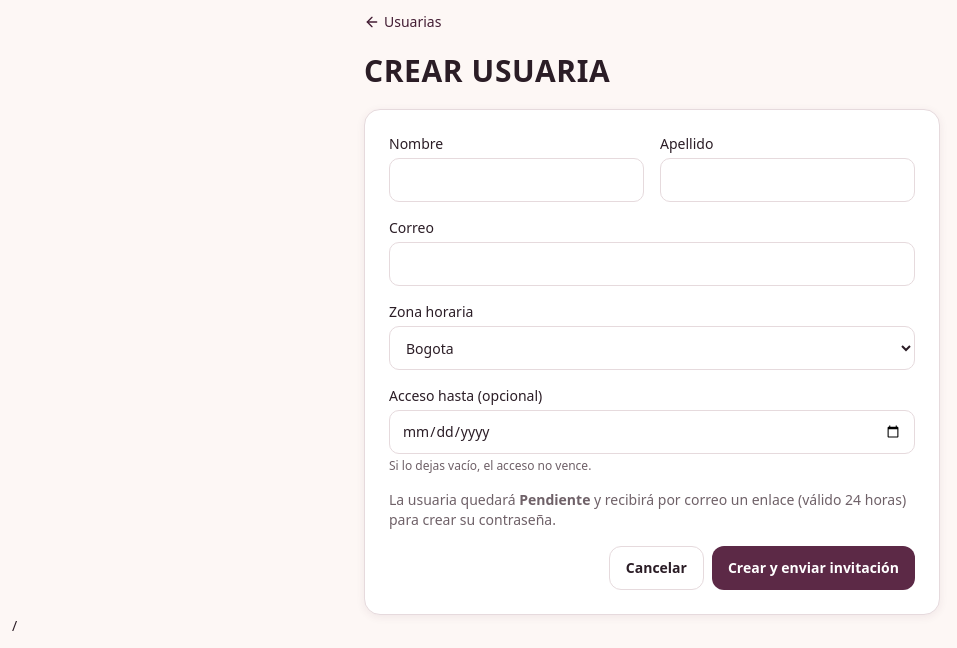
Test: CreateUserPage (HU-05) › rechaza una fecha de acceso pasada
The width and height of the screenshot is (957, 648).
Type "Nora" into the field labelled "Nombre" at (516, 180), box [389,158,644,202]
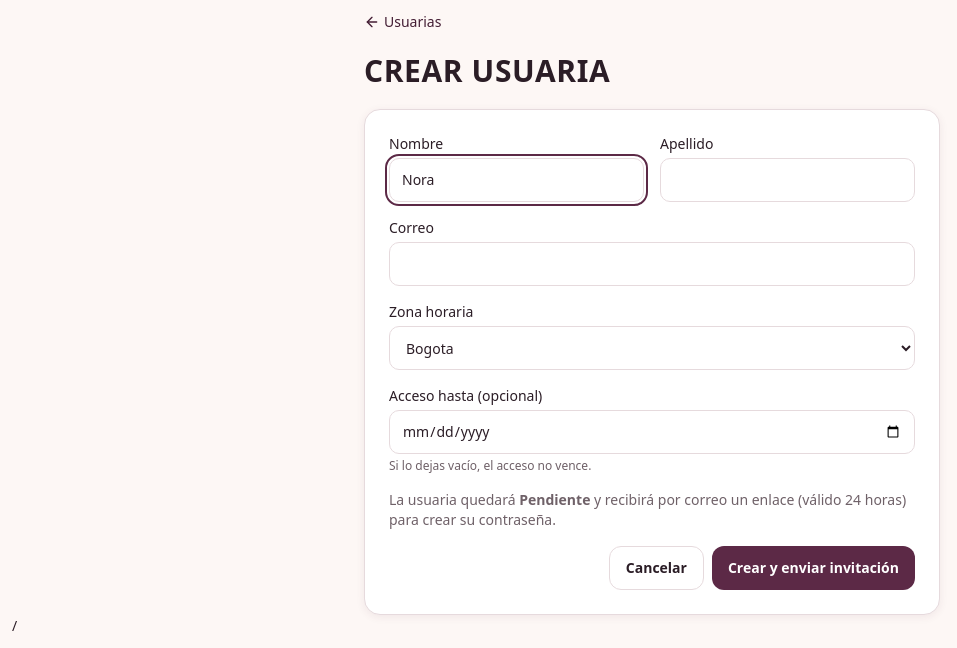
Type "Pérez" into the field labelled "Apellido" at (788, 180), box [660,158,915,202]
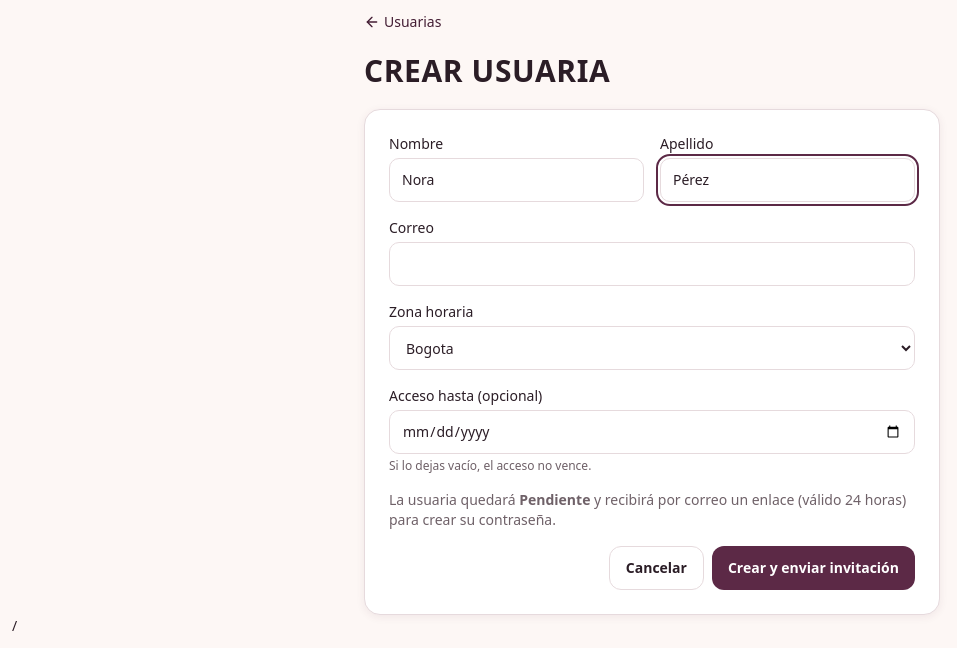
Type "nueva@neo.co" into the field labelled "Correo" at (652, 264), box [389,242,915,286]
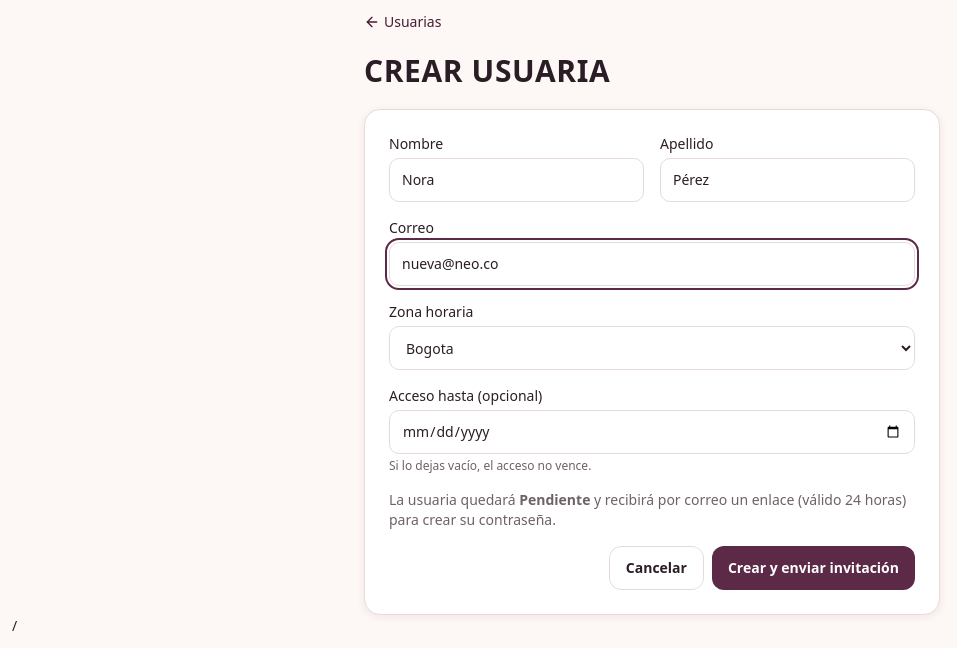
Type "2020-01-01" into the date field labelled "Acceso hasta (opcional)" at (652, 432), box [389,410,915,454]
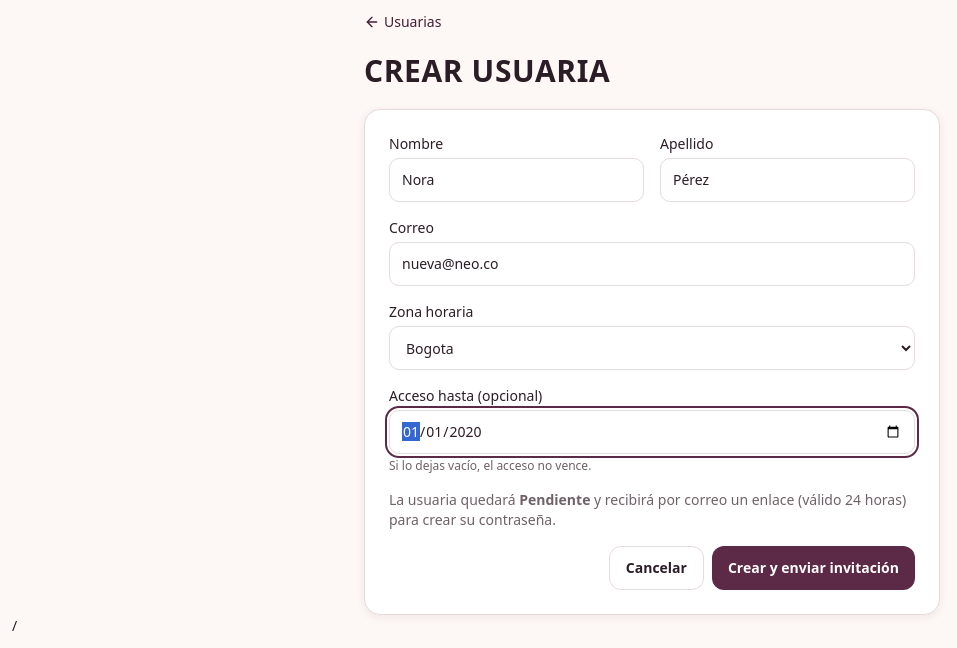
Click the button "Crear y enviar invitación" at (813, 568), box [712,546,915,590]
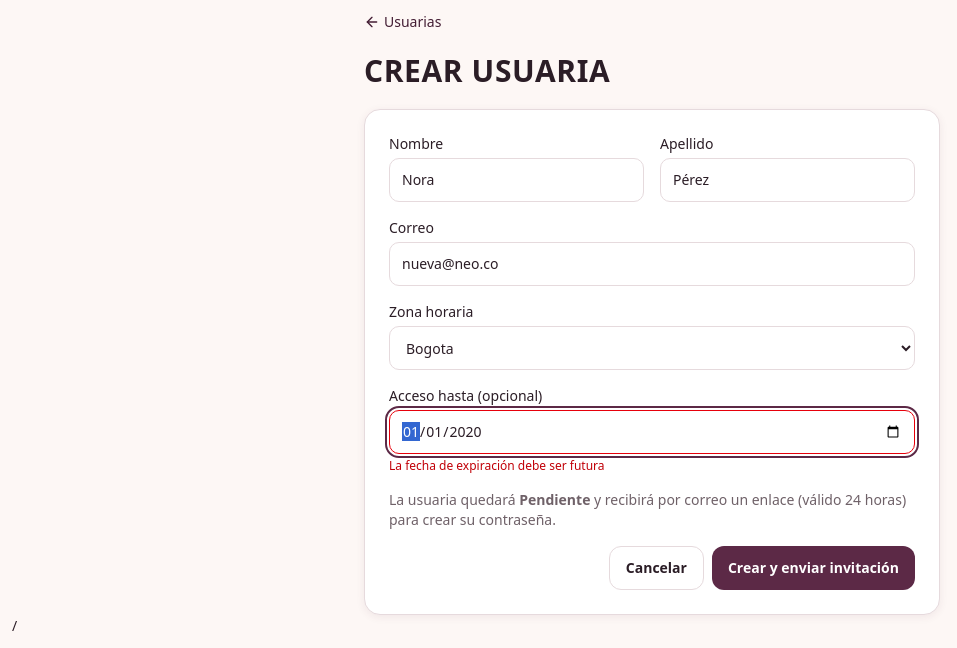
Expected: the text "La fecha de expiración debe ser futura" is shown, [389,457,604,474]
